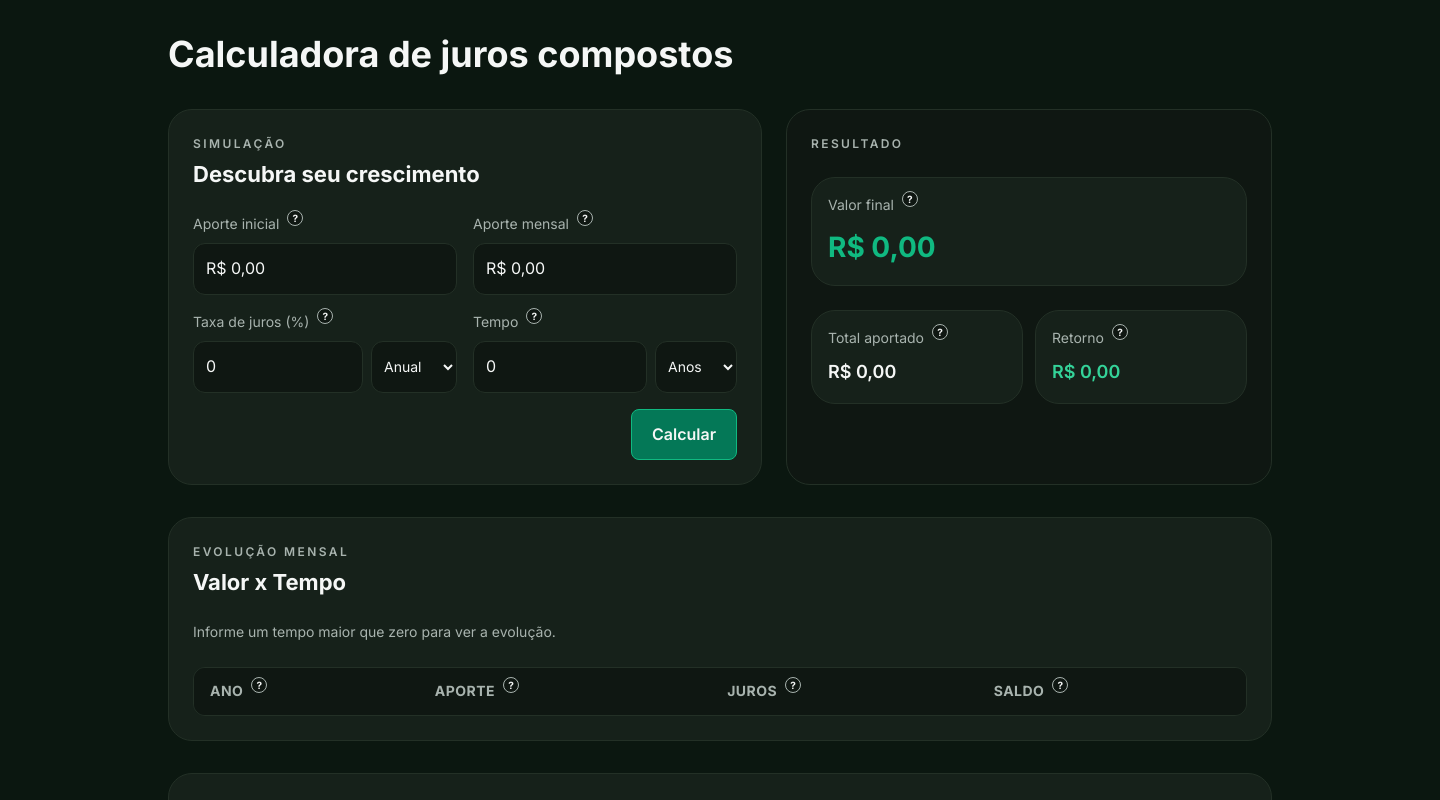
it: CompoundInterestCalculator › shows an error when the interest rate is negative
Replace the text in the field labelled "Taxa de juros (%)" with "-5": (278, 367) [193, 341, 363, 393]
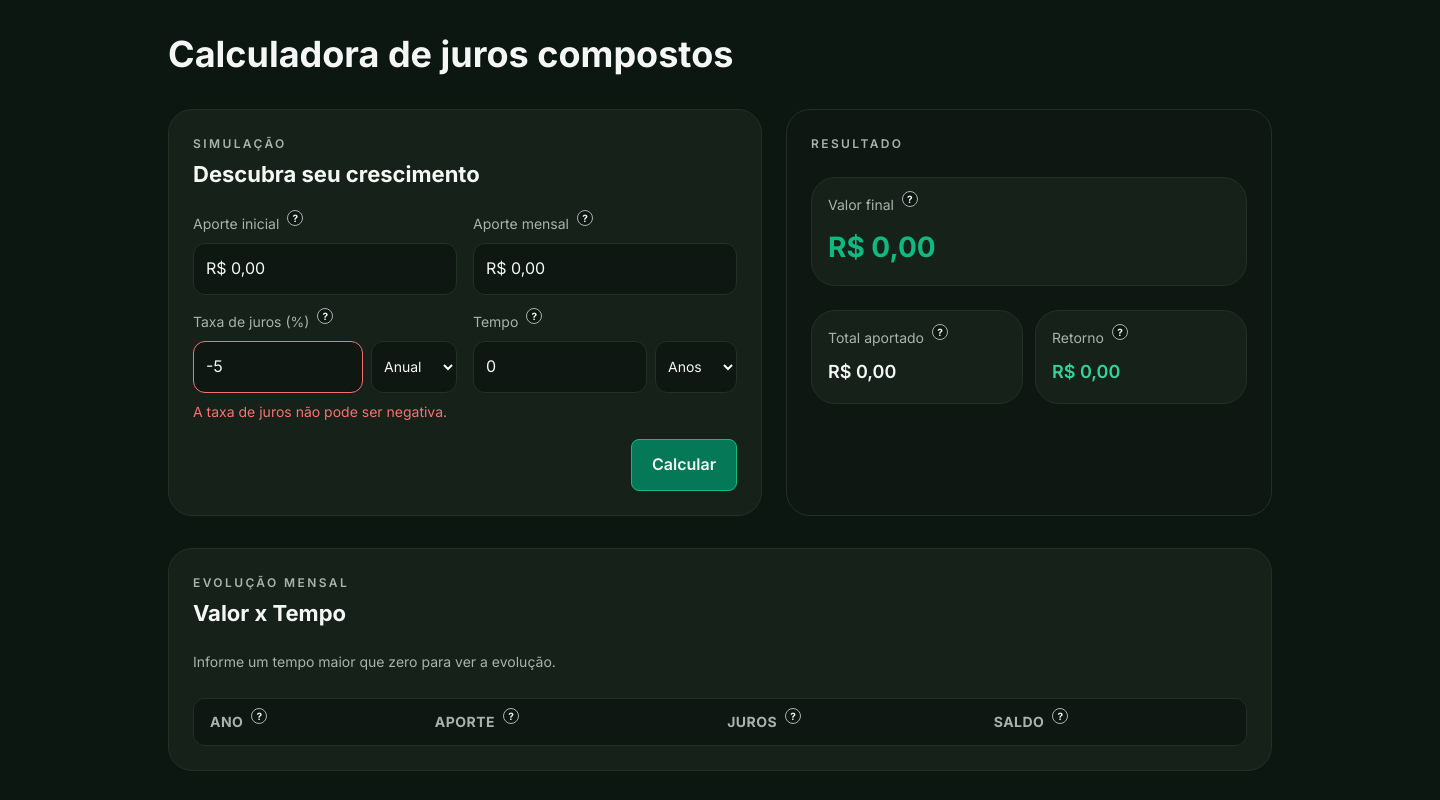
Check: the message reads "A taxa de juros não pode ser negativa.", box [193, 403, 447, 420]
